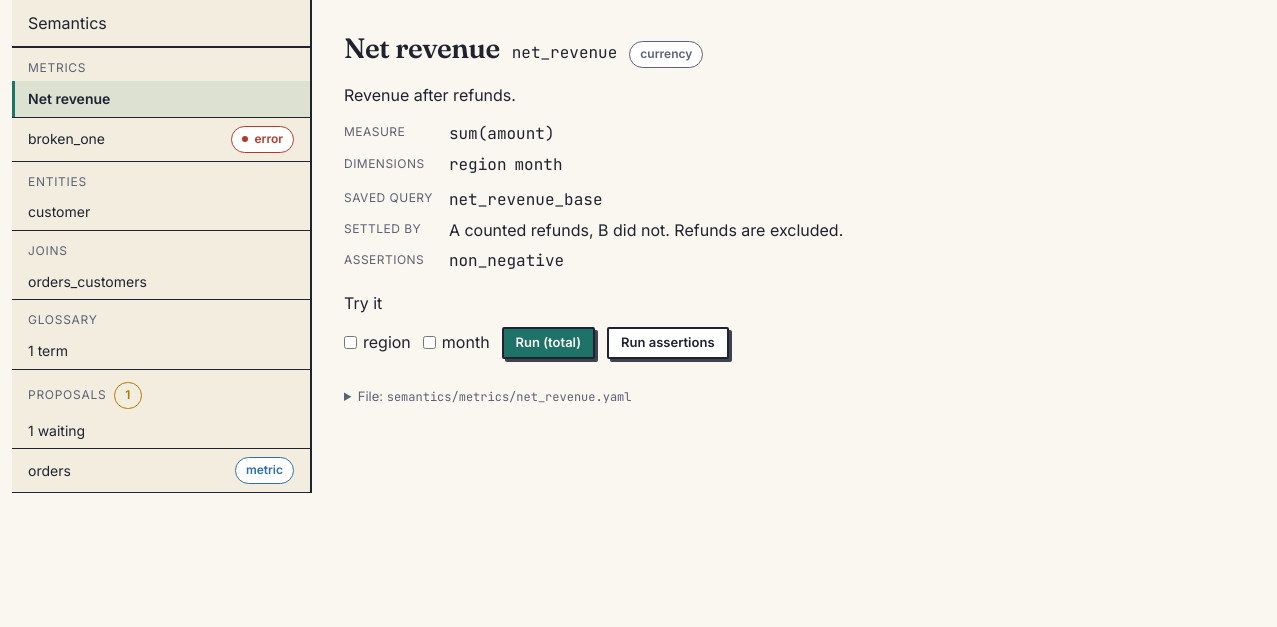
it: SemanticsView › Run assertions shows a results table
The image size is (1277, 627).
Click the button with test id "run-assertions". click: (668, 342)
box: [607,326,728,358]
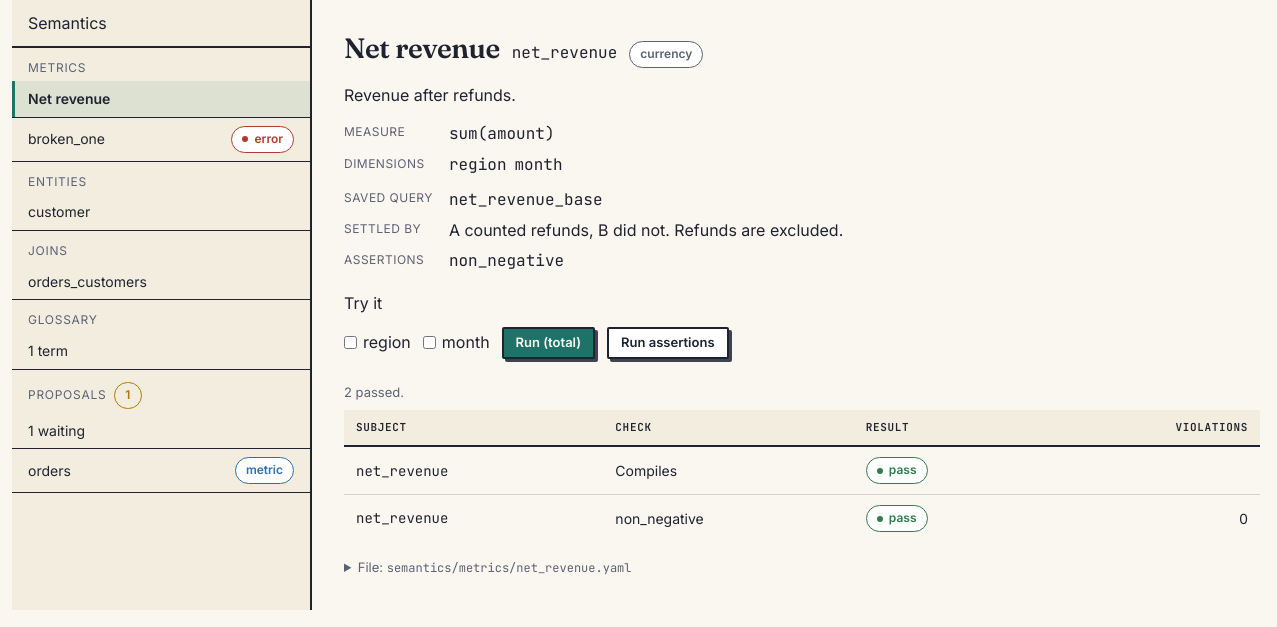
Expected: the text with test id "assertion-summary" shows "2 passed", [344,384,400,400]
Expected: the row with test id "assertion-row-0" shows "Compiles", [615,462,677,479]
Expected: the row with test id "assertion-row-1" shows "non_negative", [615,510,704,527]
